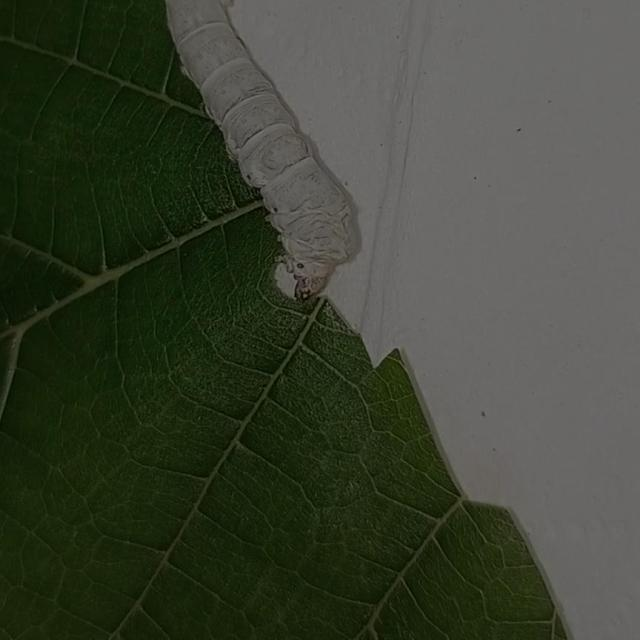Healthy: (152, 0, 434, 322)
